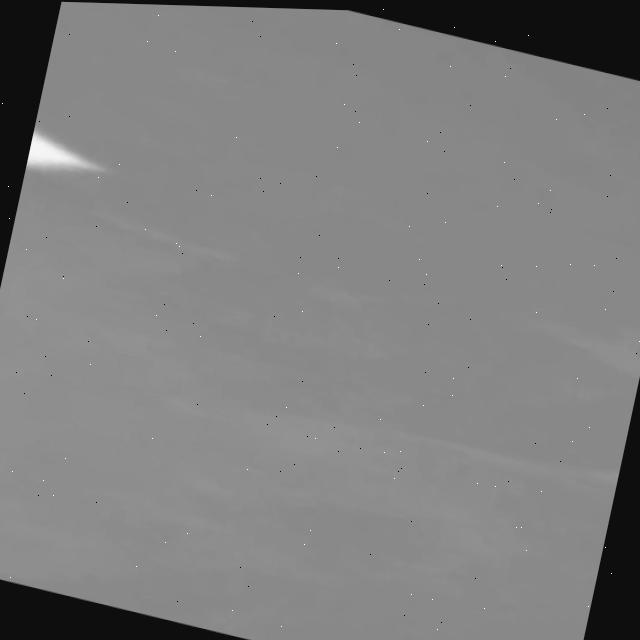center: (26, 128, 101, 169)
